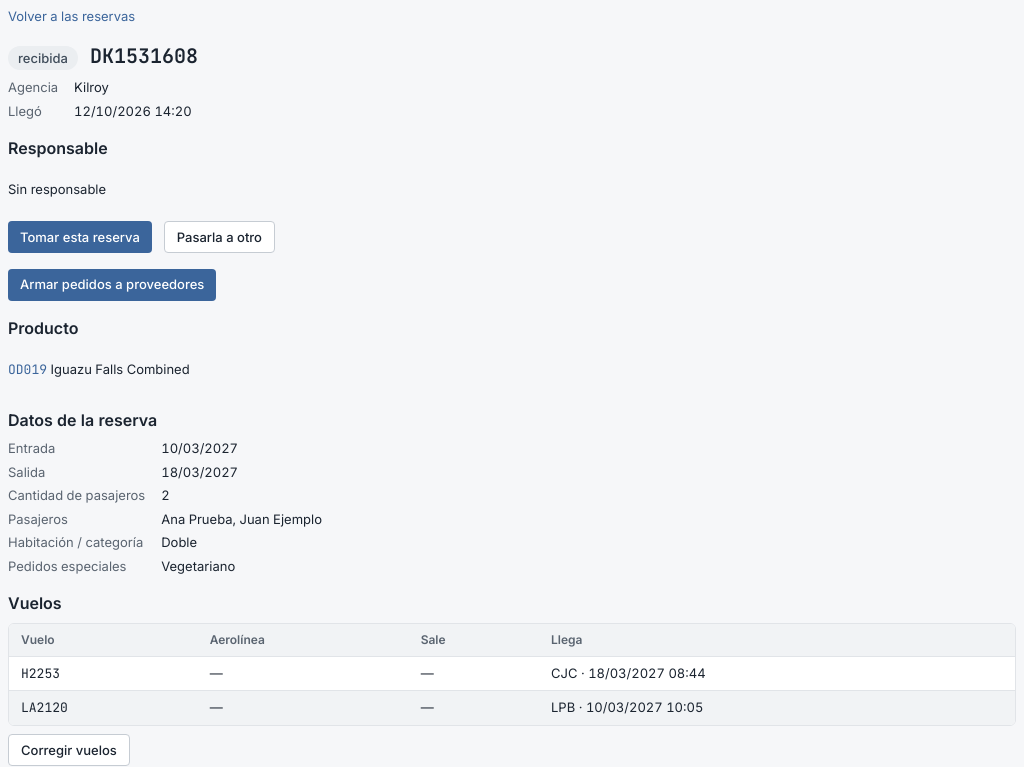
Scenario: M3-07 fila 8 y §4 — errores › 'No se pudo guardar: <motivo>' con 'Reintentar' (sin sesión, conexión)
Click the button "Corregir vuelos" at [69, 750], box [8,734,130,766]
(page scrolled)
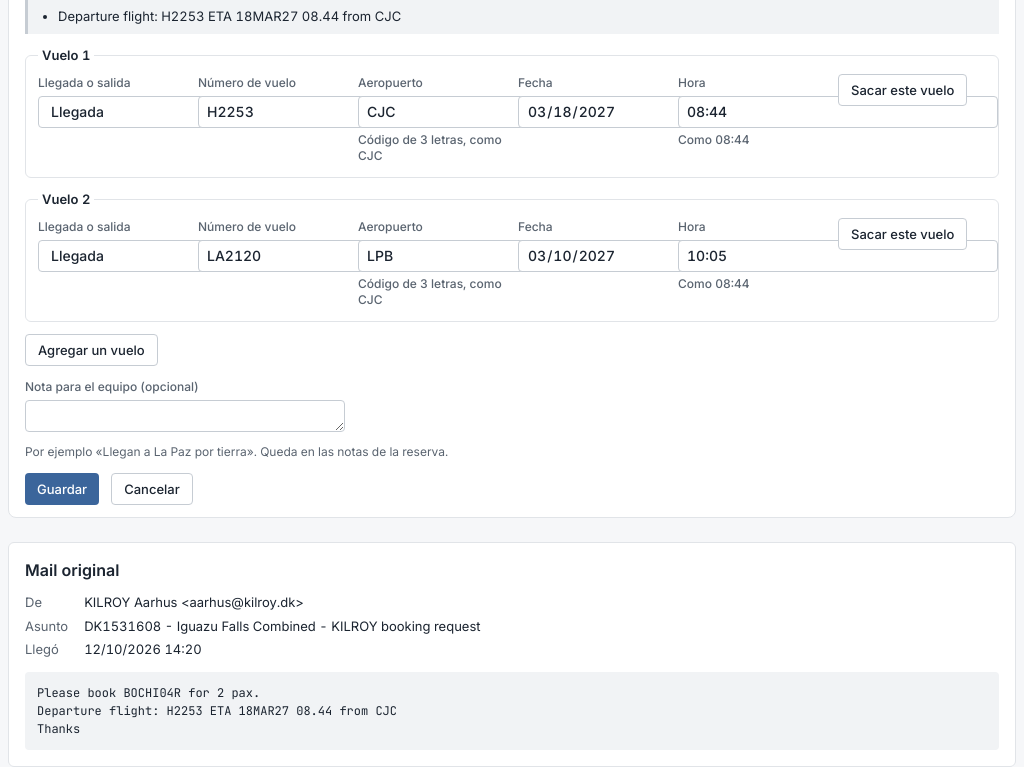
Click the button "Guardar" at [62, 489], box [25,473,99,505]
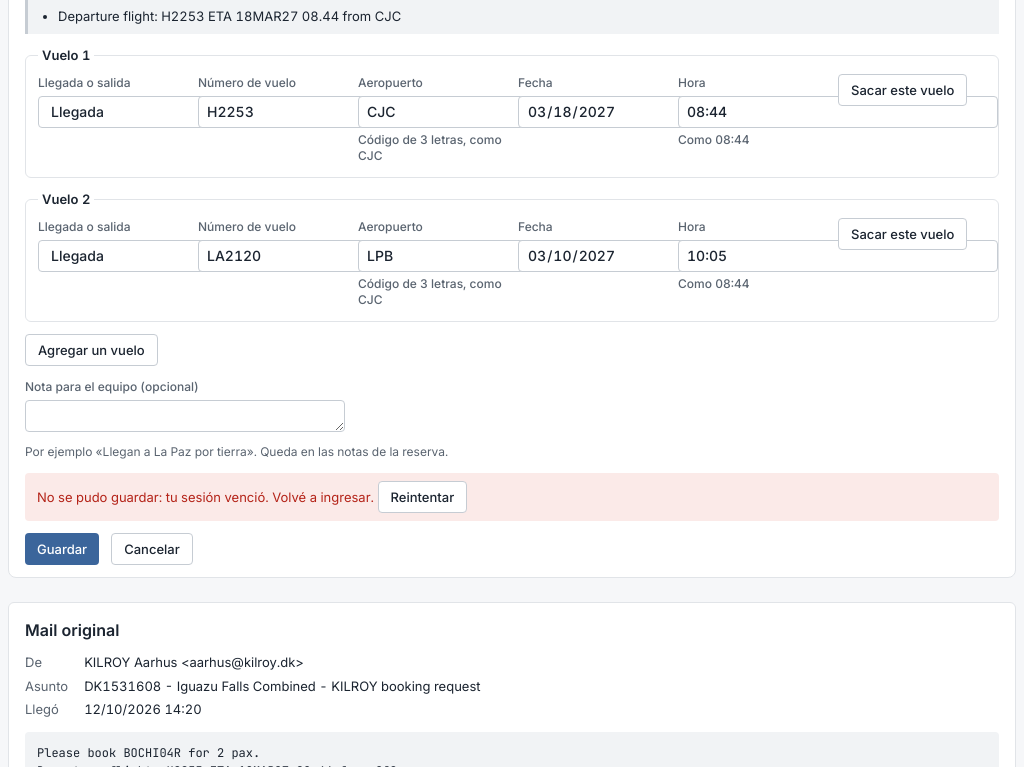
Click the button "Reintentar" at [422, 497], box [378,481,467,513]
(page scrolled)
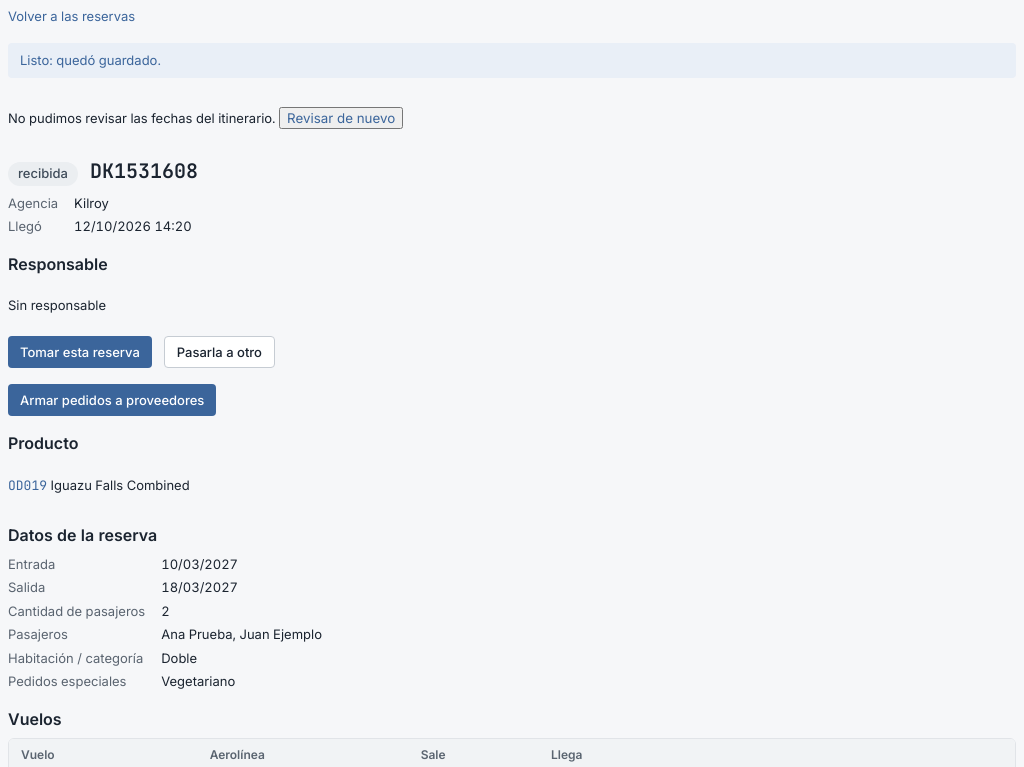
Check: the text with test id "producto-confirmado" reads "Listo: quedó guardado.", box [20,52,161,68]
